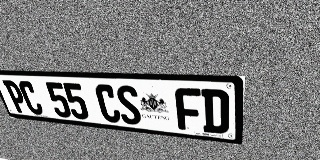5: (62, 83, 90, 120), (45, 82, 73, 118)
C: (94, 84, 122, 123), (17, 81, 45, 115)
D: (201, 89, 229, 134)
F: (174, 88, 202, 132)
P: (2, 80, 30, 114)
S: (114, 85, 143, 125)
